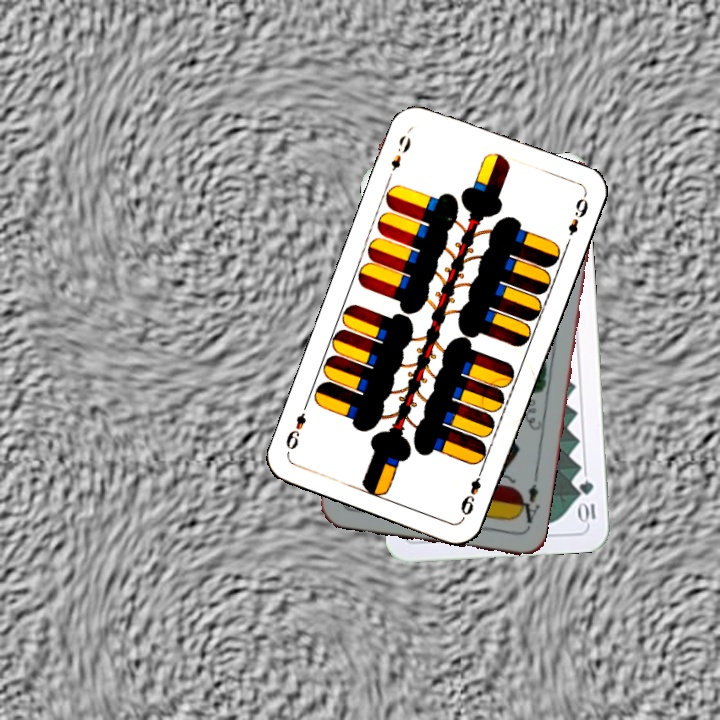E9: (456, 463, 486, 518), (387, 131, 414, 174)
EA: (513, 480, 542, 531)
G10: (575, 476, 598, 526)
